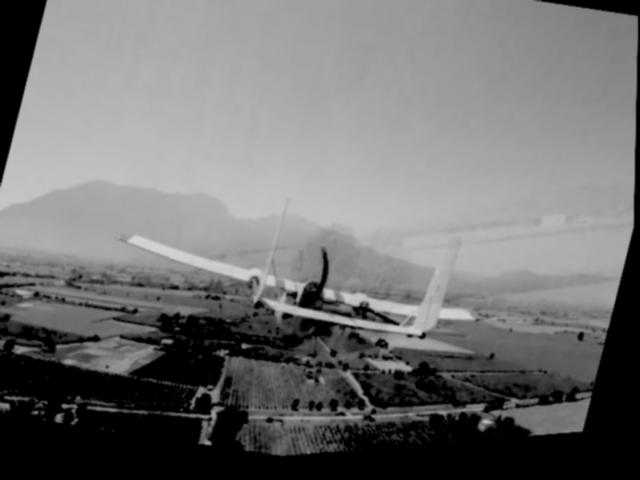hedef: (89, 146, 520, 429)
